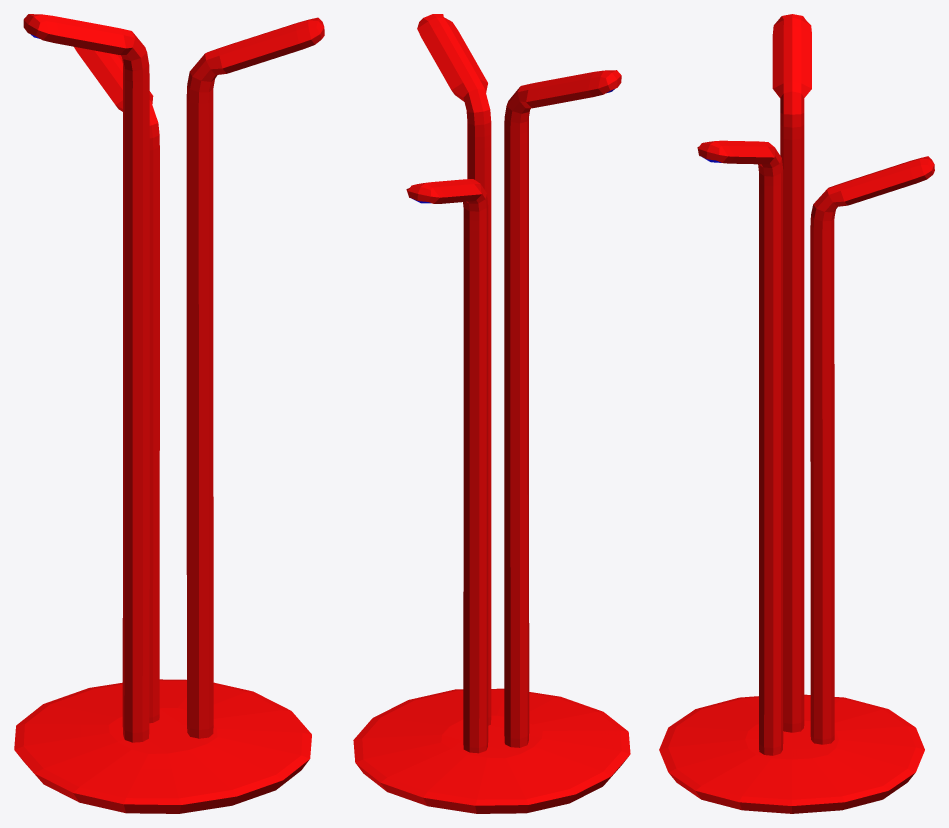
The model's file is Futurelamp3.fbx.
3 views of the same model, side by side, from view 1: azimuth 30°, elevation 25°; view 2: azimuth 150°, elevation 25°; view 3: azimuth 270°, elevation 25° (orthographic). The views are drawn at different scales.
Parts seen in each view (by area): view 1: Cube; view 2: Cube; view 3: Cube.
Part boxes in pixels (<box>): Cube: <box>14,14,324,813</box>; Cube: <box>353,14,630,813</box>; Cube: <box>659,14,934,813</box>.
Bounding box in the file's own units: 60.73 × 171 × 61.34.
